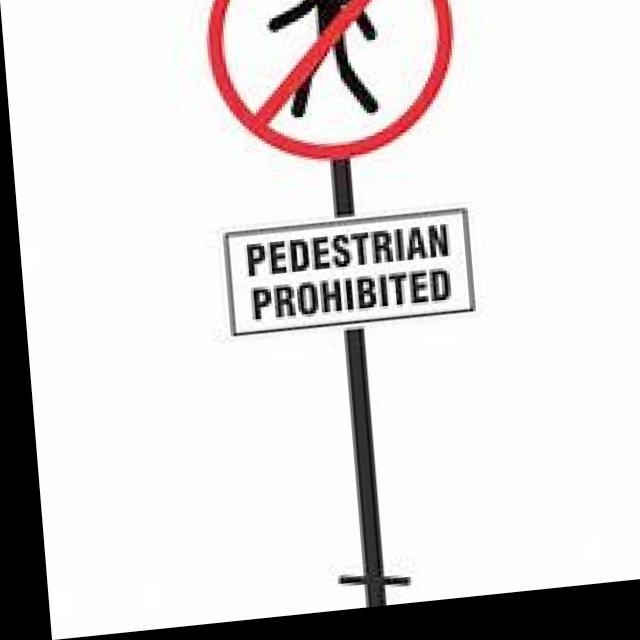PEDESTRIAN_PROHIBITED: (205, 0, 457, 176)
